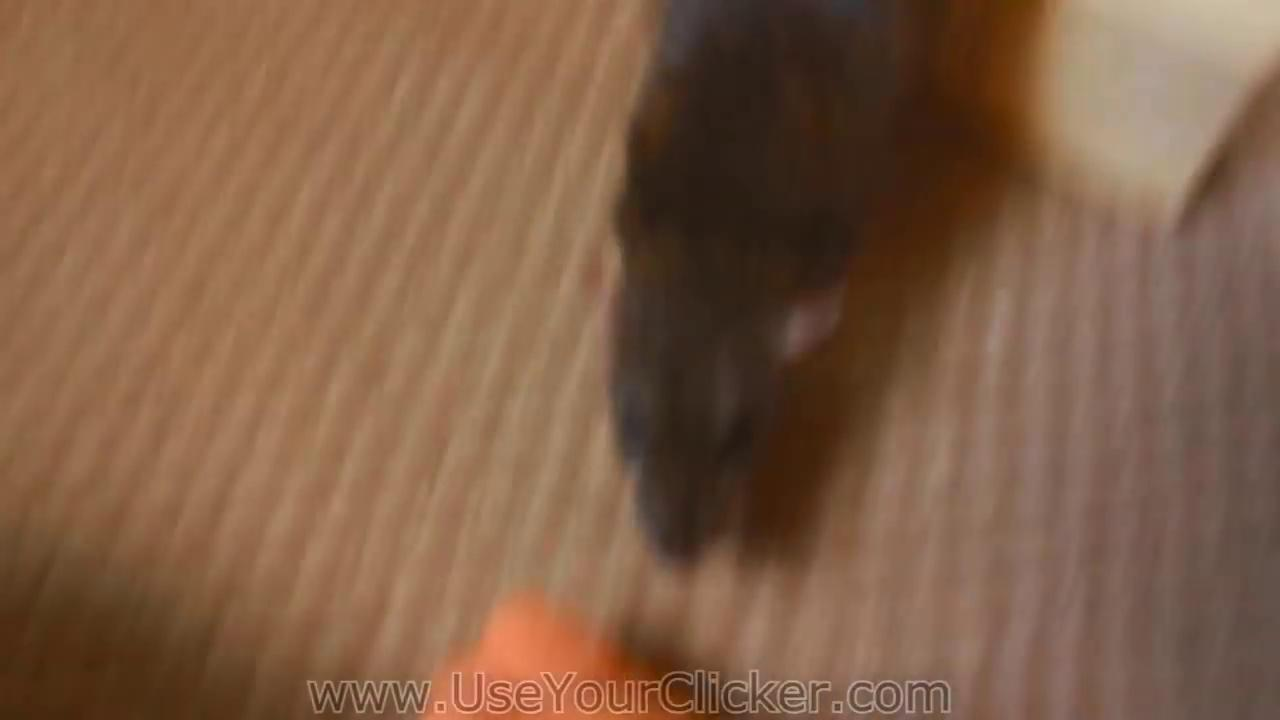rat: (606, 0, 905, 583)
